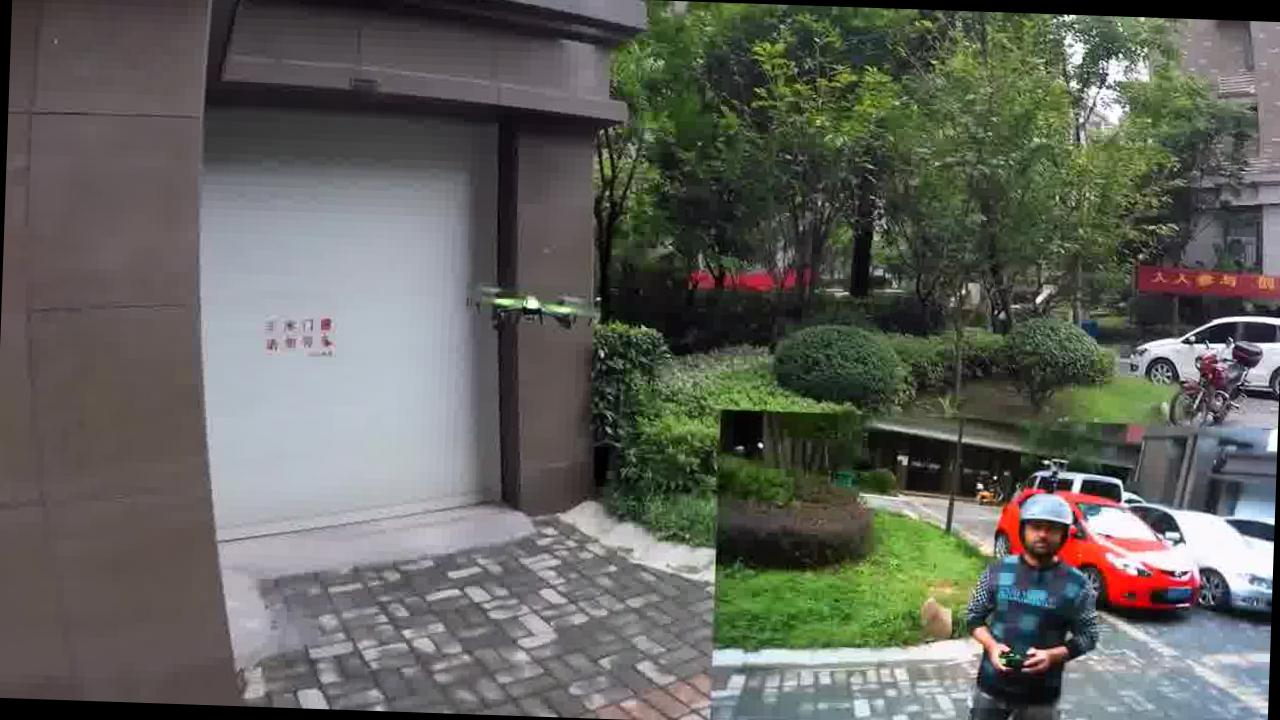drone: (450, 278, 618, 352)
